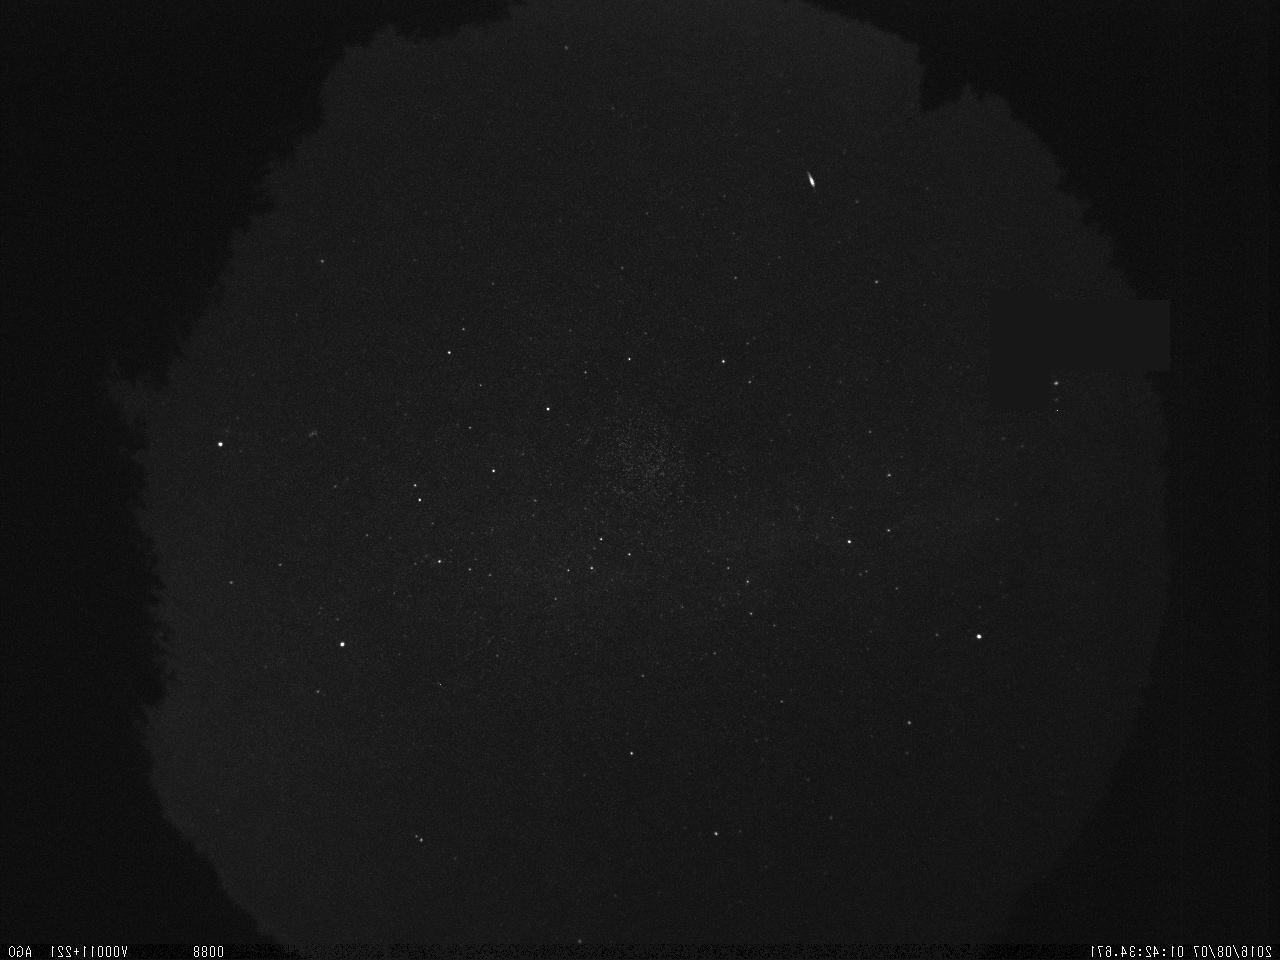meteor: (798, 167, 824, 194)
